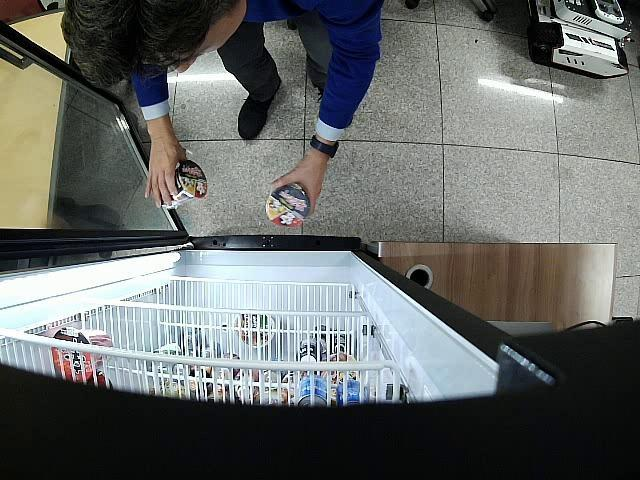08_buldak_S: (162, 159, 206, 209), (266, 182, 310, 226)
